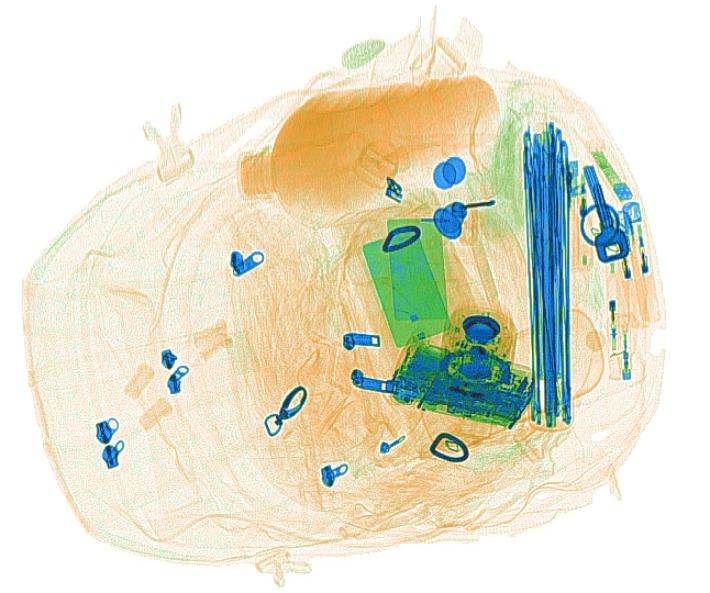USBFlashDisk: (589, 146, 634, 202)
lighter: (619, 198, 660, 322), (593, 216, 638, 321), (599, 291, 648, 387)
